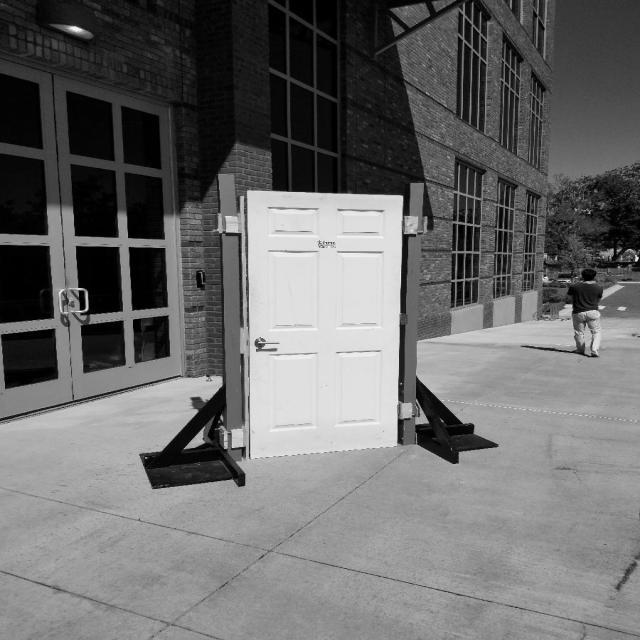door: (244, 188, 406, 464), (251, 336, 287, 351)
